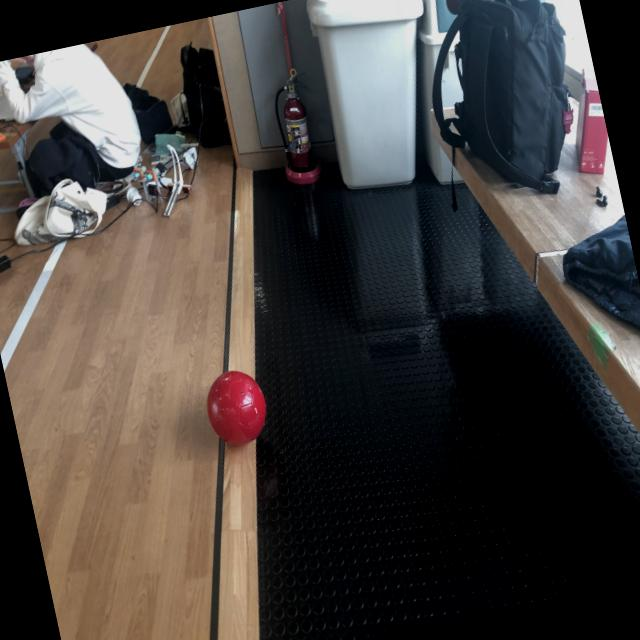red_ball: (199, 364, 272, 450)
